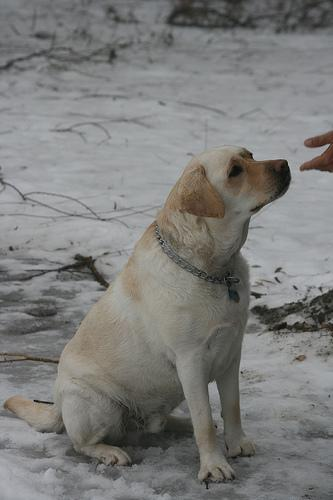dog-german_shorthaired: (174, 144, 290, 216)
